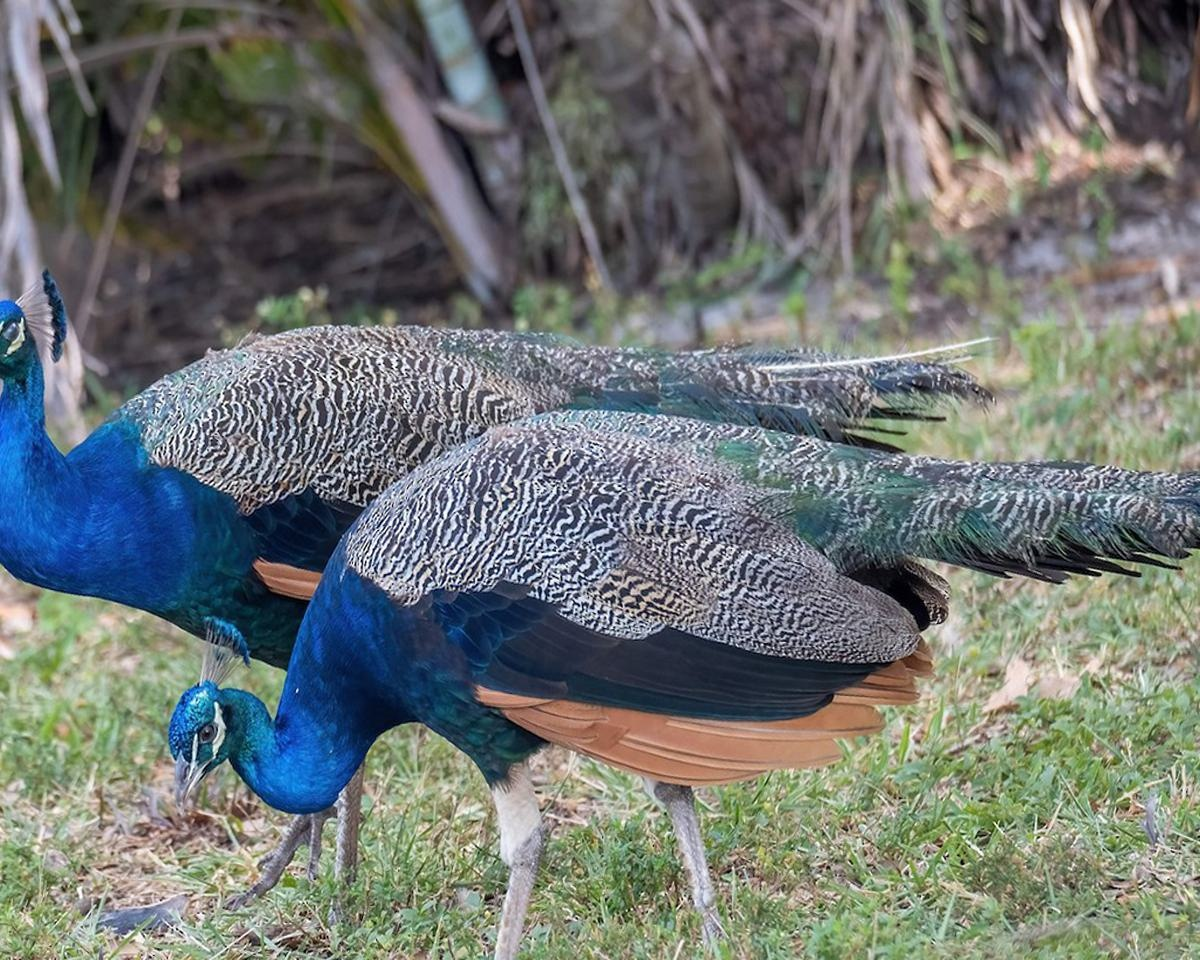peacock: (155, 459, 1150, 960), (4, 276, 443, 627)
